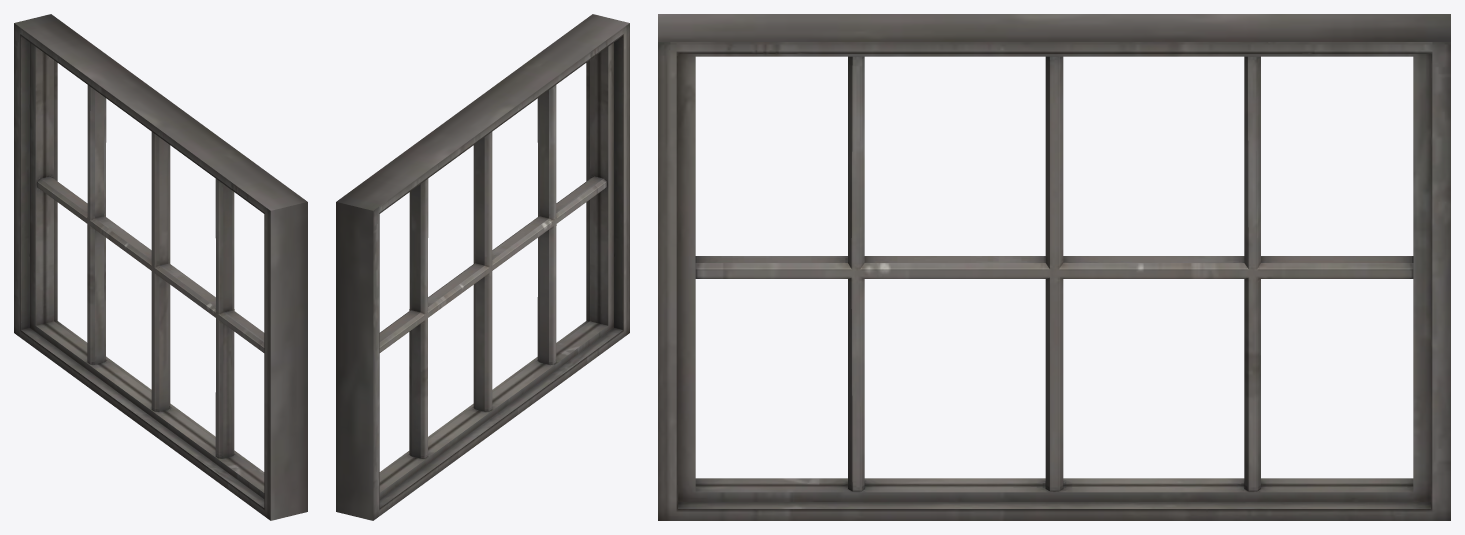
3 views of the same model, side by side, from view 1: azimuth 30°, elevation 25°; view 2: azimuth 150°, elevation 25°; view 3: azimuth 270°, elevation 25° (orthographic). The views are drawn at different scales.
Parts seen in each view (by area): view 1: body0_model0_lod0_mesh0; view 2: body0_model0_lod0_mesh0; view 3: body0_model0_lod0_mesh0.
Boxes of the visible parts, box(x1,y1,x2,y2) form: body0_model0_lod0_mesh0: box(14, 14, 307, 520); body0_model0_lod0_mesh0: box(336, 14, 629, 520); body0_model0_lod0_mesh0: box(658, 14, 1450, 520).
Size of the model in its own units: 8 by 64 by 96.
1 material, 1 textured.
